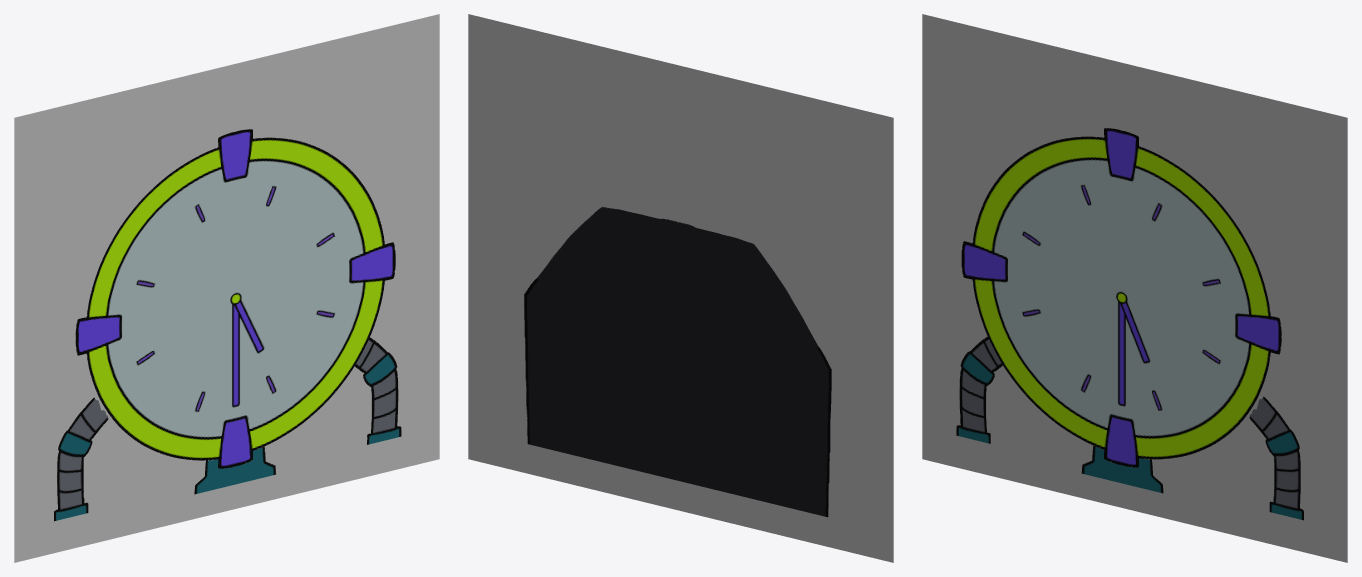
The model's file is trap_timemachine.fbx.
3 renders of one model, left to right at view 1: azimuth 30°, elevation 25°; view 2: azimuth 150°, elevation 25°; view 3: azimuth 330°, elevation 25°, orthographic.
Visible parts, largest first — view 1: time machine, trap_timemachine; view 2: time machine, trap_timemachine; view 3: time machine, trap_timemachine.
Part boxes in pixels (x1,y1,x2,y2): time machine: [14, 14, 439, 562]; trap_timemachine: [54, 129, 401, 521]; time machine: [468, 14, 893, 562]; trap_timemachine: [524, 207, 831, 517]; time machine: [922, 14, 1347, 562]; trap_timemachine: [956, 128, 1303, 520].
Bounding box in the file's own units: 100 × 100 × 6.59.
